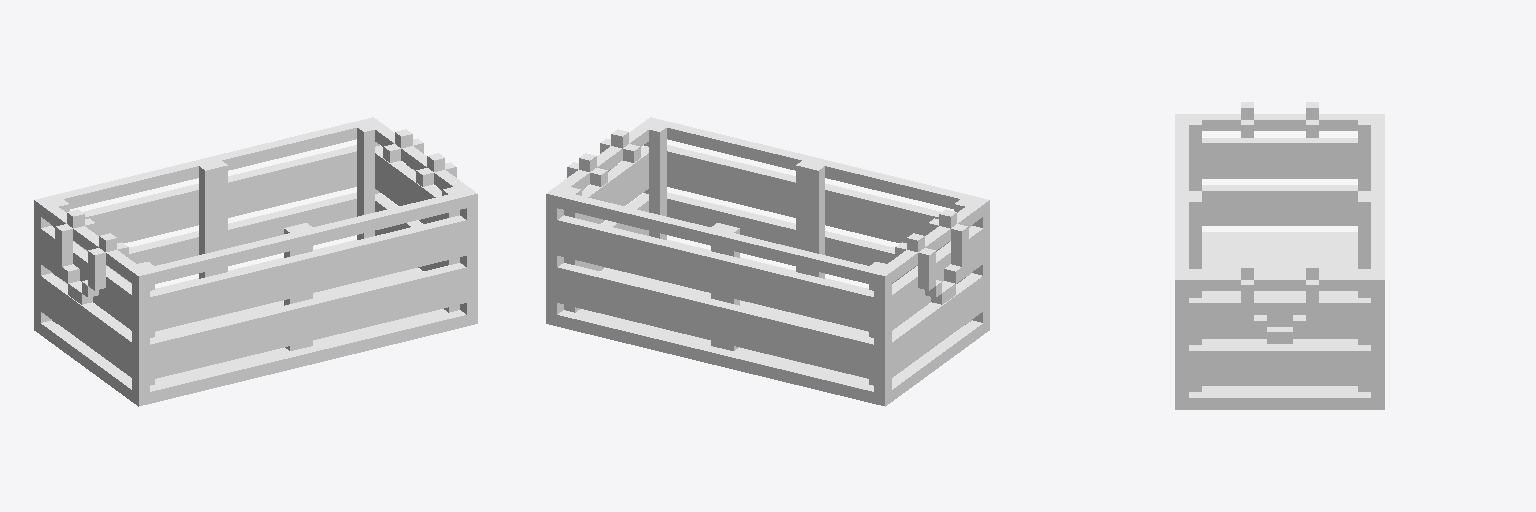
The model's file is CrateEmpty.obj.
3 views of the same model, side by side, from view 1: azimuth 30°, elevation 25°; view 2: azimuth 150°, elevation 25°; view 3: azimuth 270°, elevation 25° (orthographic).
Parts seen in each view (by area): view 1: object 1; view 2: object 1; view 3: object 1.
Part boxes in pixels (x1,y1,x2,y2): object 1: (34, 117, 477, 406); object 1: (546, 117, 989, 406); object 1: (1175, 102, 1384, 409).
Bounding box in the file's own units: 3.2 × 1.2 × 1.6.